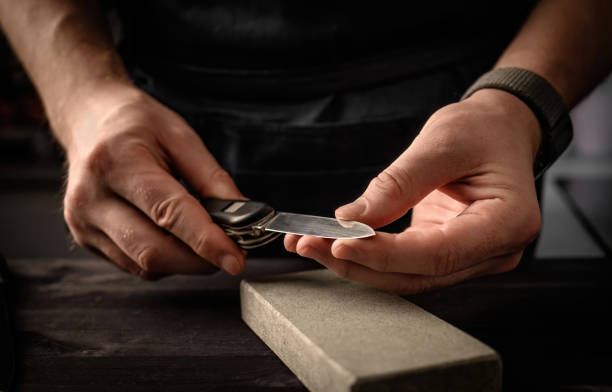knife: (196, 198, 378, 251)
